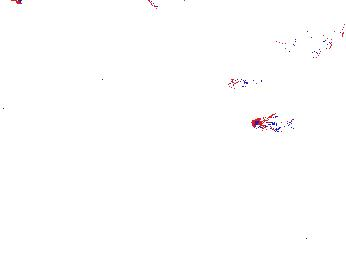red belly glassfish: (251, 112, 296, 134), (226, 75, 268, 92)
redtail glassfish: (277, 21, 346, 58)
